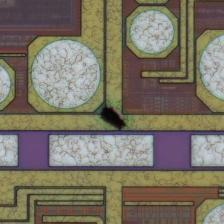PARTICLE: (97, 103, 134, 137)
